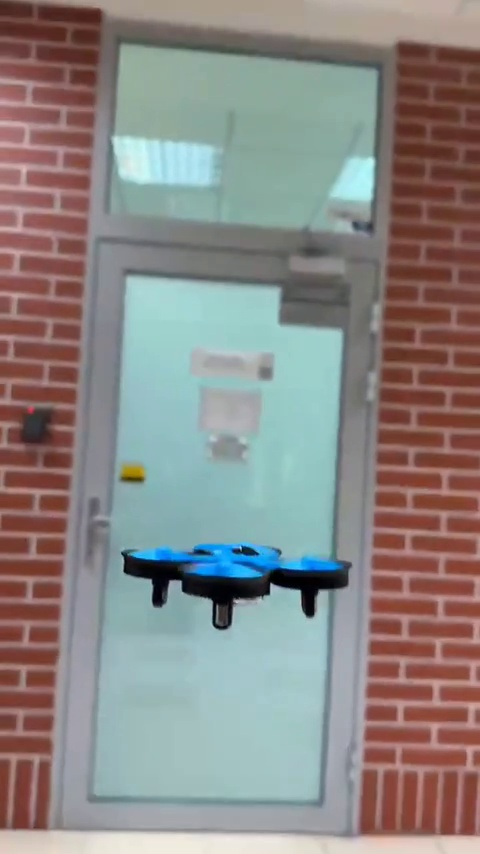drone: (116, 545, 361, 623)
